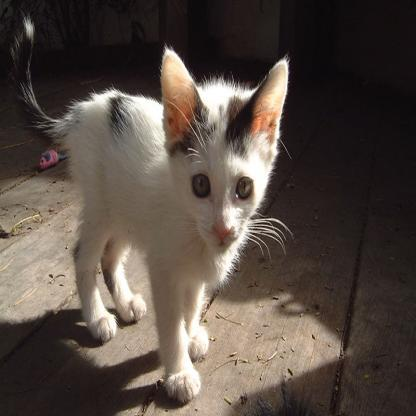cat: (8, 10, 298, 408)
